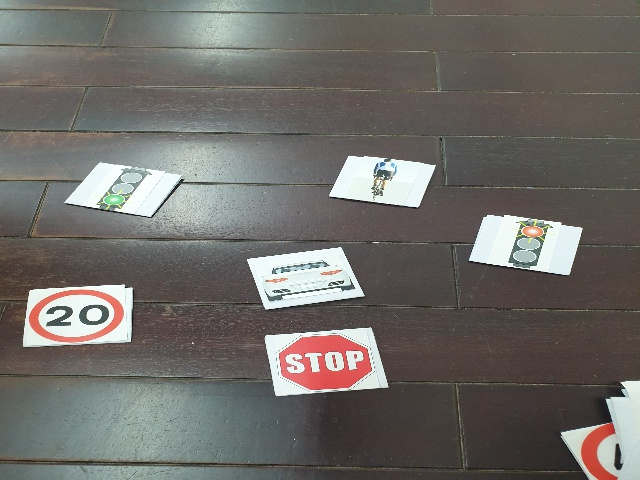Car: (261, 263, 356, 301)
Cyclist: (366, 157, 398, 200)
Green Light: (93, 165, 152, 214)
Limit 20: (28, 291, 126, 344)
Red Light: (504, 219, 555, 272)
Stop: (275, 335, 373, 390)
